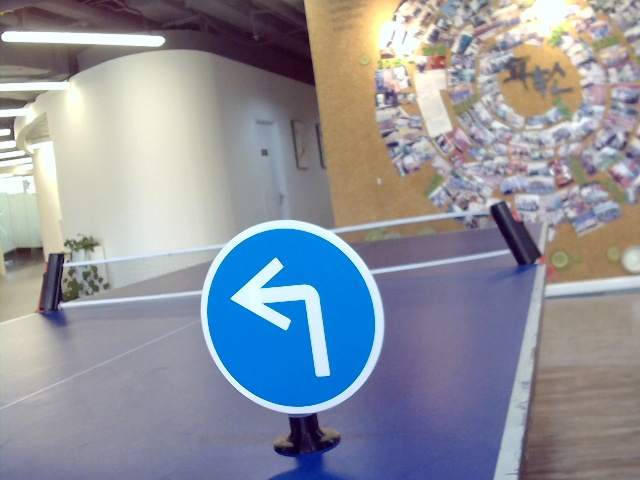turn_left: (224, 257, 346, 378)
